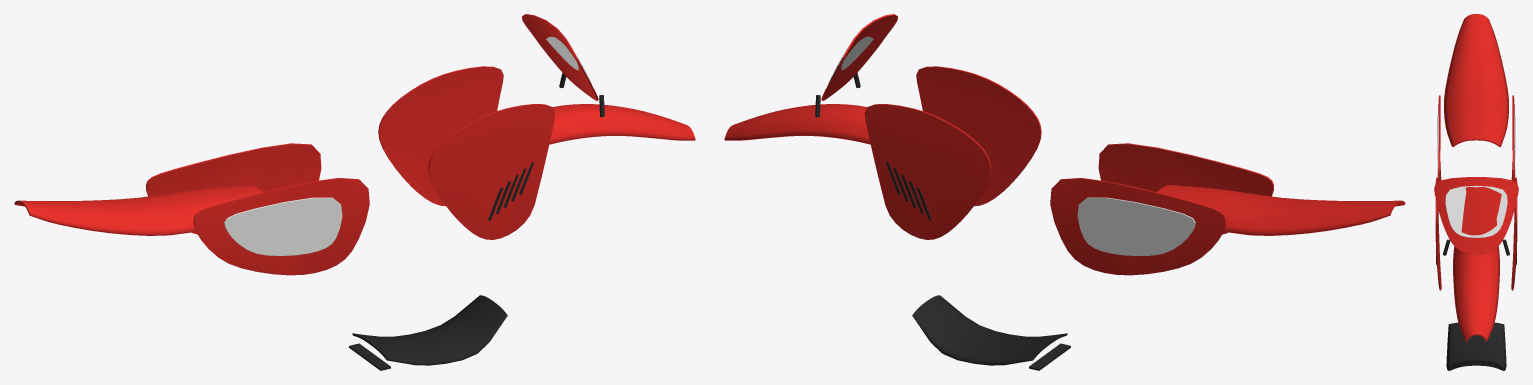
The model's file is bike_mx_2t__bodywork.glb.
3 renders of one model, left to right at view 1: azimuth 30°, elevation 25°; view 2: azimuth 150°, elevation 25°; view 3: azimuth 270°, elevation 25°, orthographic. The views are drawn at different scales.
Parts seen in each view (by area): view 1: frame_body__radiator_shrouds__left, frame_body__radiator_shrouds__right, frame_body__side_panels__left, frame_body__rear_mudguard, frame_body__side_panels__right, frame_body__skid_plate, frame_body__side_panels__number_backgrounds, frame_body__front_mudguard, frame_body__number_plate, frame_body__radiator_shrouds__louvres; view 2: frame_body__radiator_shrouds__right, frame_body__radiator_shrouds__left, frame_body__side_panels__right, frame_body__rear_mudguard, frame_body__side_panels__left, frame_body__skid_plate, frame_body__side_panels__number_backgrounds, frame_body__front_mudguard, frame_body__number_plate, frame_body__radiator_shrouds__louvres; view 3: frame_body__rear_mudguard, frame_body__number_plate, frame_body__front_mudguard, frame_body__skid_plate, frame_body__number_plate__background, frame_body__radiator_shrouds__left, frame_body__radiator_shrouds__right, frame_body__side_panels__left, frame_body__side_panels__right, frame_body__side_panels__number_backgrounds, frame_body__number_plate__straps.
Boxes of the visible parts, x1=… form: frame_body__radiator_shrouds__left: x1=428, y1=104, x2=555, y2=239; frame_body__radiator_shrouds__right: x1=378, y1=66, x2=503, y2=206; frame_body__side_panels__left: x1=193, y1=178, x2=369, y2=275; frame_body__rear_mudguard: x1=14, y1=185, x2=262, y2=235; frame_body__side_panels__right: x1=146, y1=143, x2=321, y2=234; frame_body__skid_plate: x1=349, y1=295, x2=507, y2=370; frame_body__side_panels__number_backgrounds: x1=224, y1=197, x2=342, y2=255; frame_body__front_mudguard: x1=549, y1=104, x2=695, y2=144; frame_body__number_plate: x1=522, y1=14, x2=598, y2=100; frame_body__radiator_shrouds__louvres: x1=488, y1=162, x2=533, y2=220; frame_body__radiator_shrouds__right: x1=864, y1=104, x2=991, y2=239; frame_body__radiator_shrouds__left: x1=916, y1=66, x2=1041, y2=206; frame_body__side_panels__right: x1=1050, y1=178, x2=1226, y2=275; frame_body__rear_mudguard: x1=1157, y1=185, x2=1405, y2=235; frame_body__side_panels__left: x1=1098, y1=143, x2=1273, y2=234; frame_body__skid_plate: x1=912, y1=295, x2=1070, y2=370; frame_body__side_panels__number_backgrounds: x1=1077, y1=197, x2=1195, y2=255; frame_body__front_mudguard: x1=724, y1=104, x2=870, y2=144; frame_body__number_plate: x1=821, y1=14, x2=897, y2=100; frame_body__radiator_shrouds__louvres: x1=886, y1=162, x2=931, y2=220; frame_body__rear_mudguard: x1=1444, y1=14, x2=1508, y2=146; frame_body__number_plate: x1=1434, y1=177, x2=1518, y2=254; frame_body__front_mudguard: x1=1453, y1=246, x2=1499, y2=341; frame_body__skid_plate: x1=1446, y1=322, x2=1506, y2=370; frame_body__number_plate__background: x1=1445, y1=185, x2=1507, y2=237; frame_body__radiator_shrouds__left: x1=1435, y1=177, x2=1441, y2=290; frame_body__radiator_shrouds__right: x1=1511, y1=177, x2=1517, y2=290; frame_body__side_panels__left: x1=1438, y1=95, x2=1441, y2=181; frame_body__side_panels__right: x1=1511, y1=95, x2=1514, y2=181; frame_body__side_panels__number_backgrounds: x1=1437, y1=115, x2=1515, y2=178; frame_body__number_plate__straps: x1=1443, y1=239, x2=1509, y2=255.
Bounding box in the file's own units: 194 × 82.25 × 27.39.
